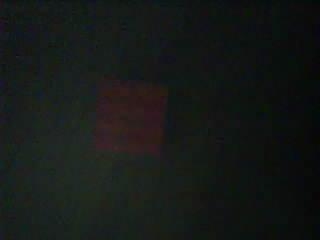lego: (91, 74, 169, 155)
